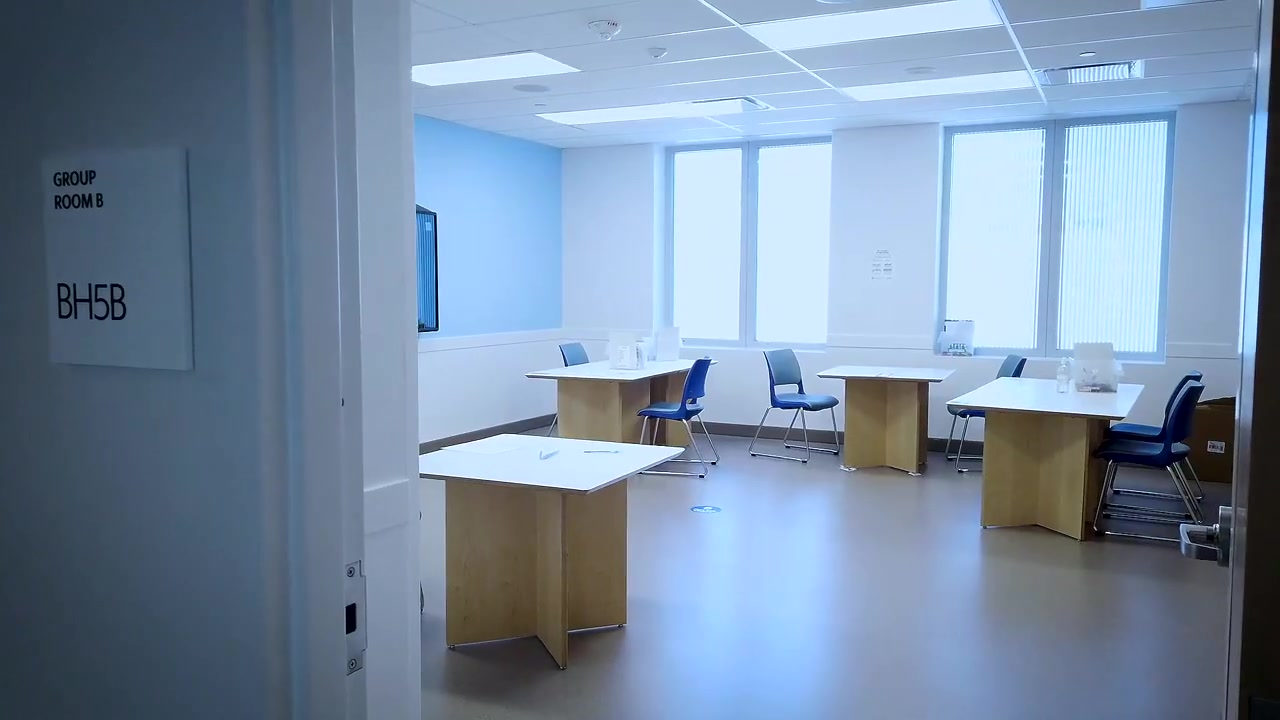chair: (1094, 381, 1207, 550), (1103, 367, 1205, 523), (748, 348, 841, 467), (635, 359, 720, 478), (943, 353, 1027, 473), (554, 341, 592, 369)
dispenser: (1055, 359, 1070, 389)
door_handle: (1179, 506, 1230, 566)
table: (418, 433, 687, 670), (946, 376, 1148, 541), (524, 358, 722, 448), (818, 364, 955, 476)
waste_bin: (1180, 395, 1236, 485)
